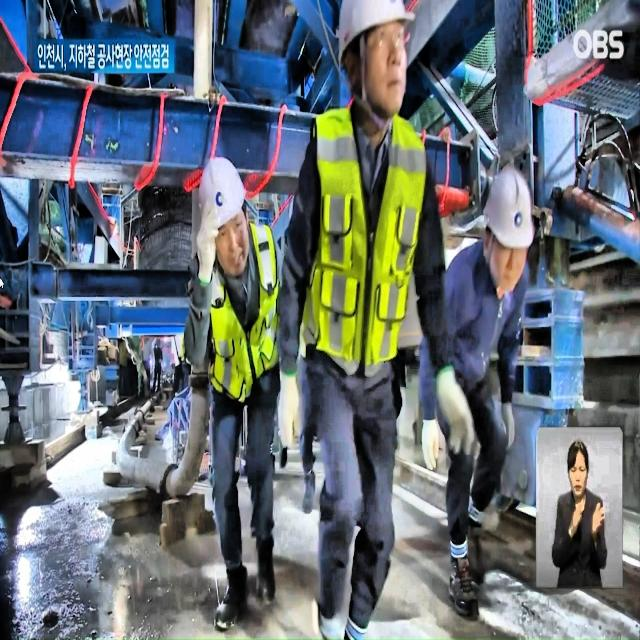safety_helmet: (469, 147, 555, 269), (201, 154, 266, 266), (334, 5, 420, 53)
safety_jacket: (311, 111, 420, 412), (191, 264, 304, 411)
